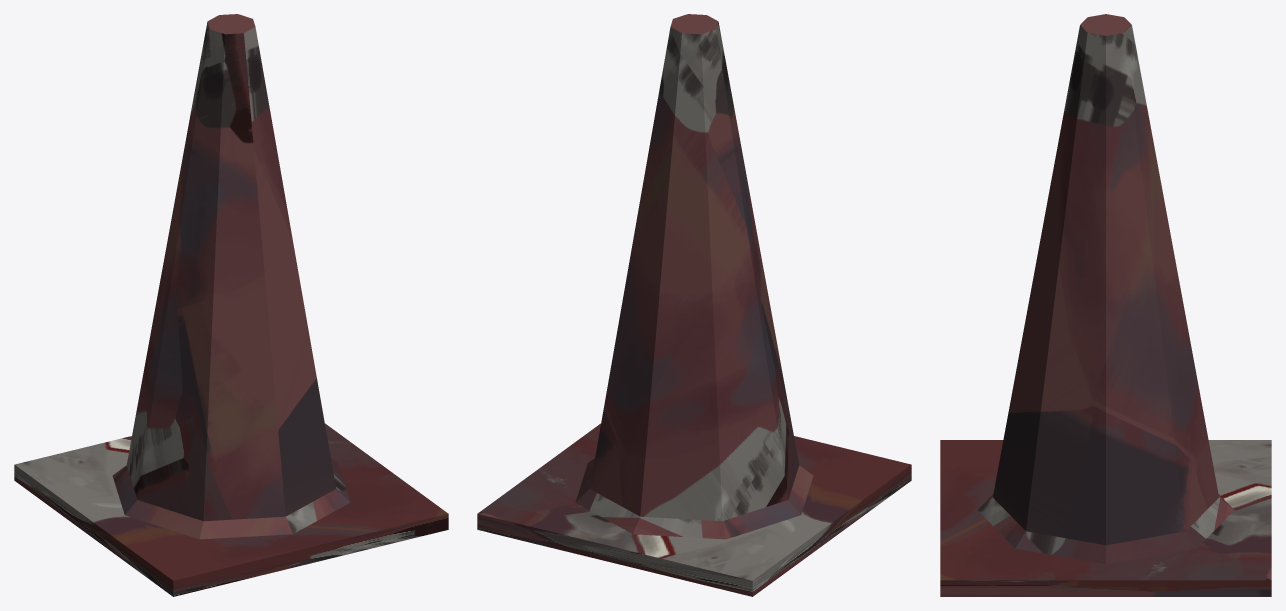
File: traffic cone.fbx
The picture shows the model from 3 angles, left to right: view 1: azimuth 30°, elevation 25°; view 2: azimuth 150°, elevation 25°; view 3: azimuth 270°, elevation 25°; orthographic projection. The views are drawn at different scales.
Visible parts, largest first — view 1: traffic cone; view 2: traffic cone; view 3: traffic cone.
Part boxes in pixels (x1,y1,x2,y2): traffic cone: (14, 14, 448, 596); traffic cone: (477, 14, 911, 596); traffic cone: (940, 14, 1271, 596).
Size of the model in its own units: 200 by 334 by 200.
